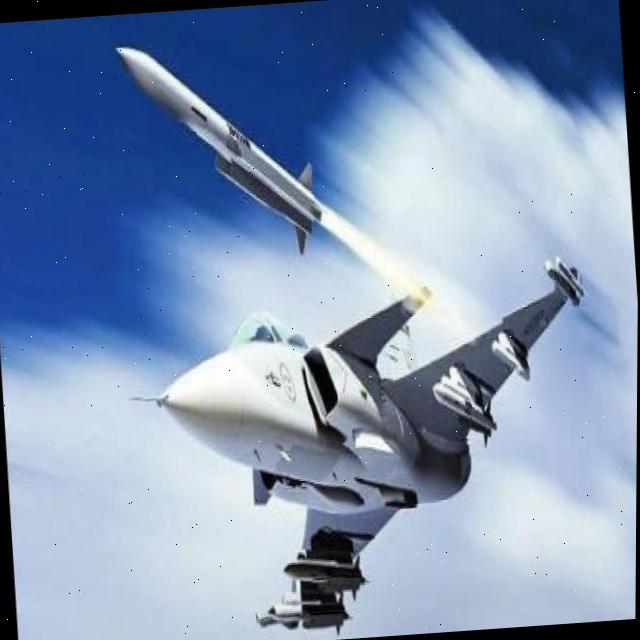missile: (108, 30, 341, 266)
